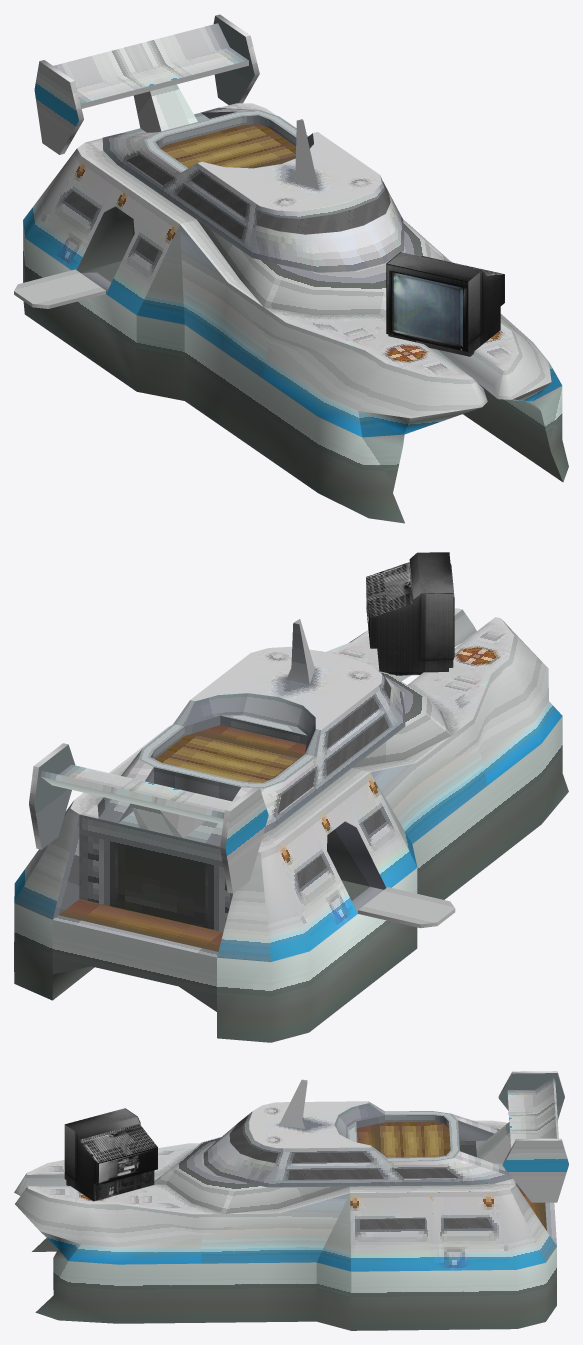
The model's file is zone_ss_brainfog.glb.
3 renders of one model, top to bottom at view 1: azimuth 30°, elevation 25°; view 2: azimuth 150°, elevation 25°; view 3: azimuth 270°, elevation 25°, orthographic. The views are drawn at different scales.
Parts seen in each view (by area): view 1: S.S. Aqua, portal_adhdo; view 2: S.S. Aqua, portal_adhdo; view 3: S.S. Aqua, portal_adhdo.
Part boxes in pixels (x1,y1,x2,y2): S.S. Aqua: (14,14,568,523); portal_adhdo: (386,252,504,356); S.S. Aqua: (14,608,568,1042); portal_adhdo: (366,552,454,675); S.S. Aqua: (14,1071,568,1330); portal_adhdo: (64,1108,157,1201).
Size of the model in its own units: 10.92 by 7.77 by 19.58.
16 materials, 16 textured.
